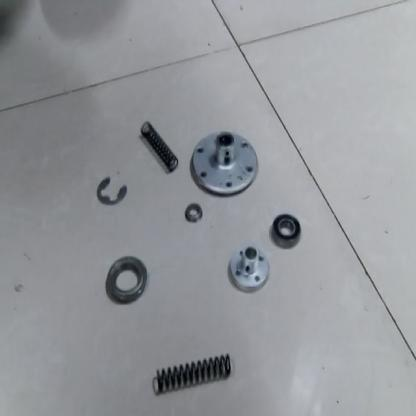FOD: (189, 128, 260, 200), (153, 348, 234, 396), (103, 253, 149, 307), (140, 120, 179, 176), (228, 246, 270, 295), (268, 211, 303, 251), (96, 171, 128, 212), (182, 200, 206, 228)
